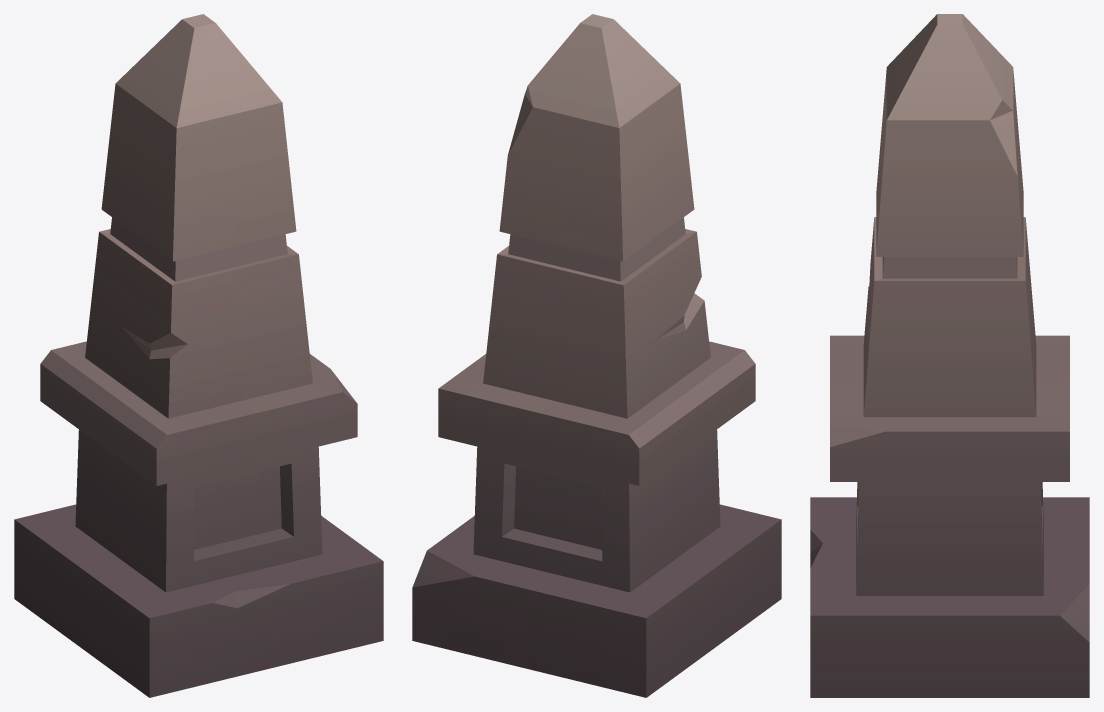
The model's file is tower-2.glb.
The picture shows the model from 3 angles, left to right: view 1: azimuth 30°, elevation 25°; view 2: azimuth 150°, elevation 25°; view 3: azimuth 270°, elevation 25°; orthographic projection. The views are drawn at different scales.
Parts seen in each view (by area): view 1: obelisk2; view 2: obelisk2; view 3: obelisk2.
Part boxes in pixels (x1,y1,x2,y2): obelisk2: (14, 14, 383, 697); obelisk2: (412, 14, 781, 697); obelisk2: (810, 14, 1089, 697).
Bounding box in the file's own units: 0.809 × 1.98 × 0.809.
Materials: 1 (1 with a texture image).
